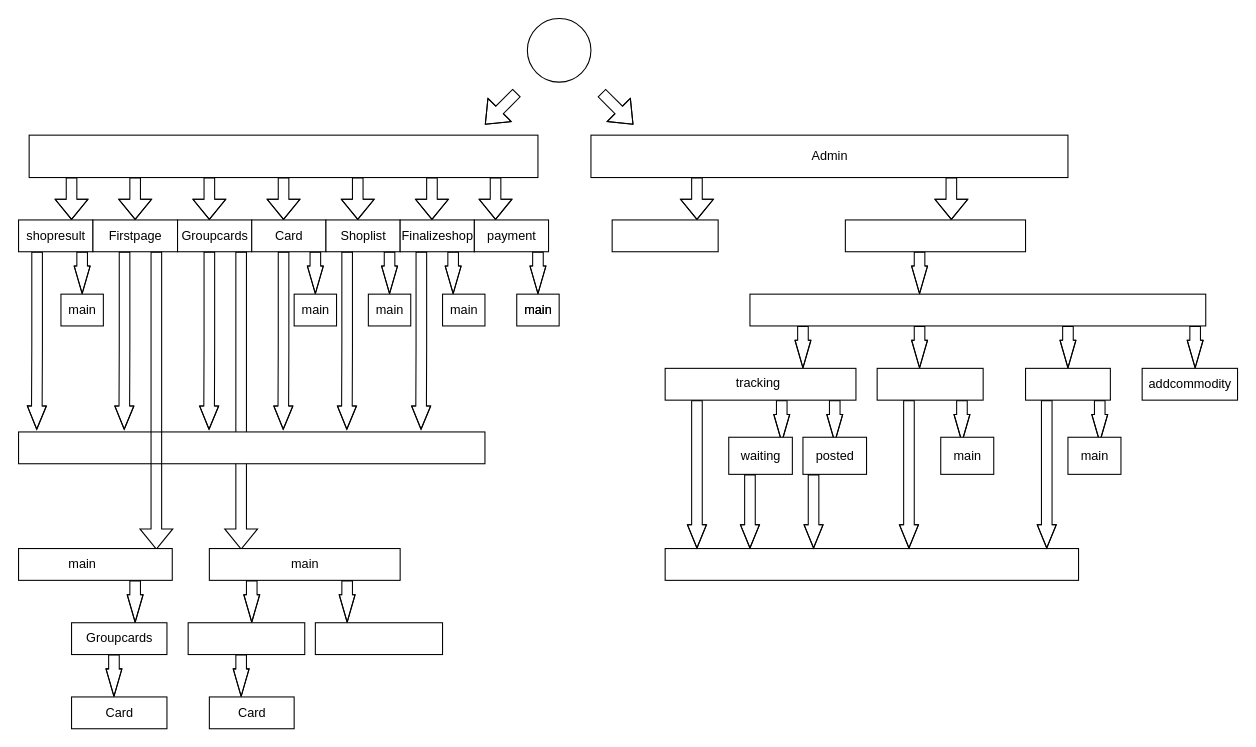
Some shapes in this 1256 by 747 pixel diagram are drawn without their labels. The shapes that lost their labels are listed below. From the top down, each one's centre as x and y in pixels, then its label:
(x=558, y=49): App
(x=283, y=156): User
(x=664, y=235): loginmanagement
(x=935, y=235): management
(x=977, y=309): Tabs
(x=929, y=383): priceandinventory
(x=1067, y=383): Commodity
(x=251, y=447): userheader
(x=871, y=563): Adminheader
(x=246, y=638): commodity of group
(x=378, y=638): menu of commity
